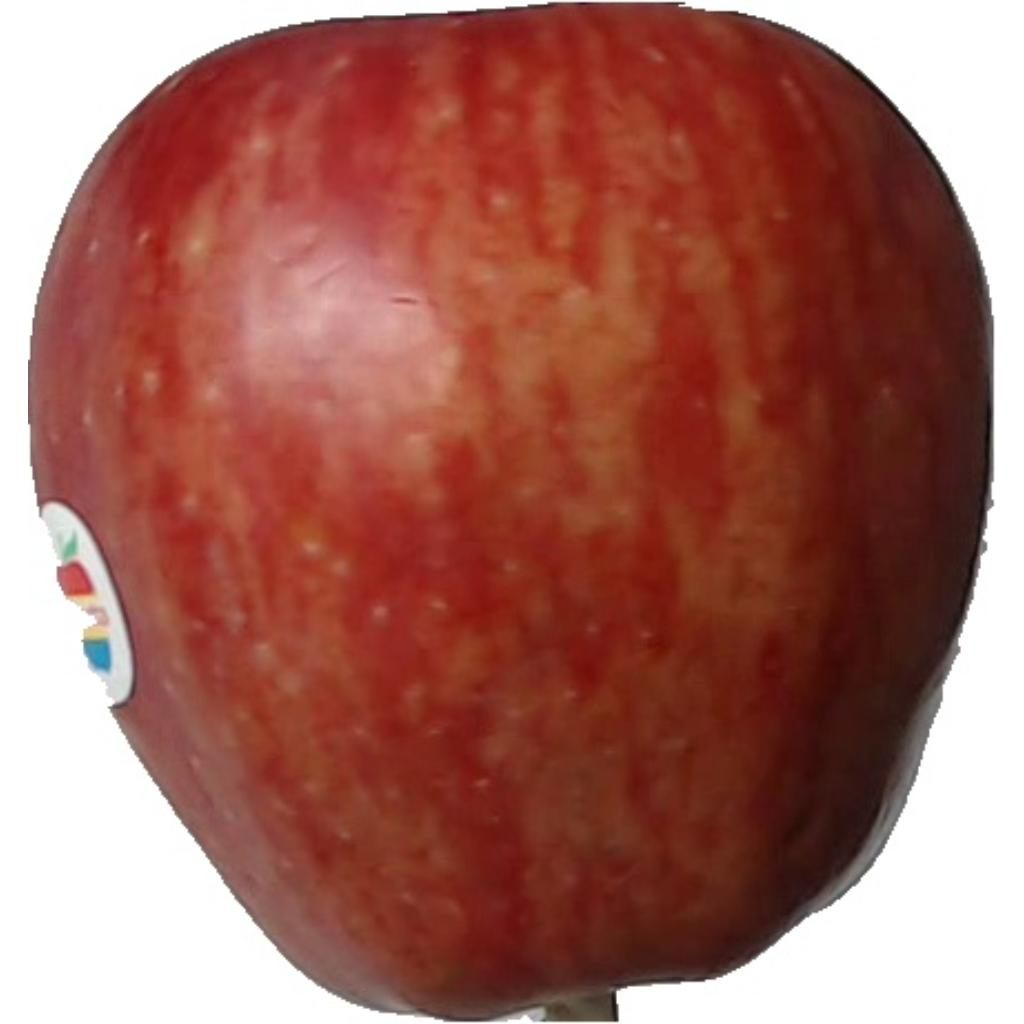apple: (28, 2, 996, 1024)
